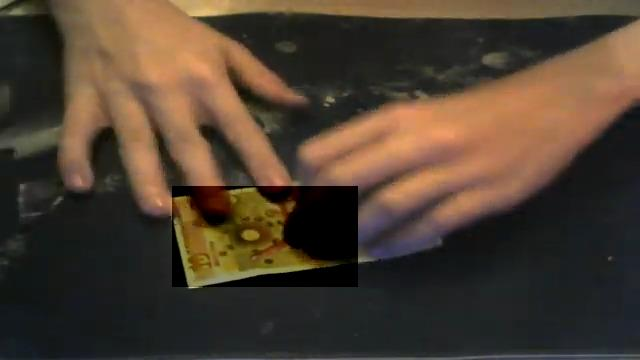10leva: (172, 186, 358, 287)
